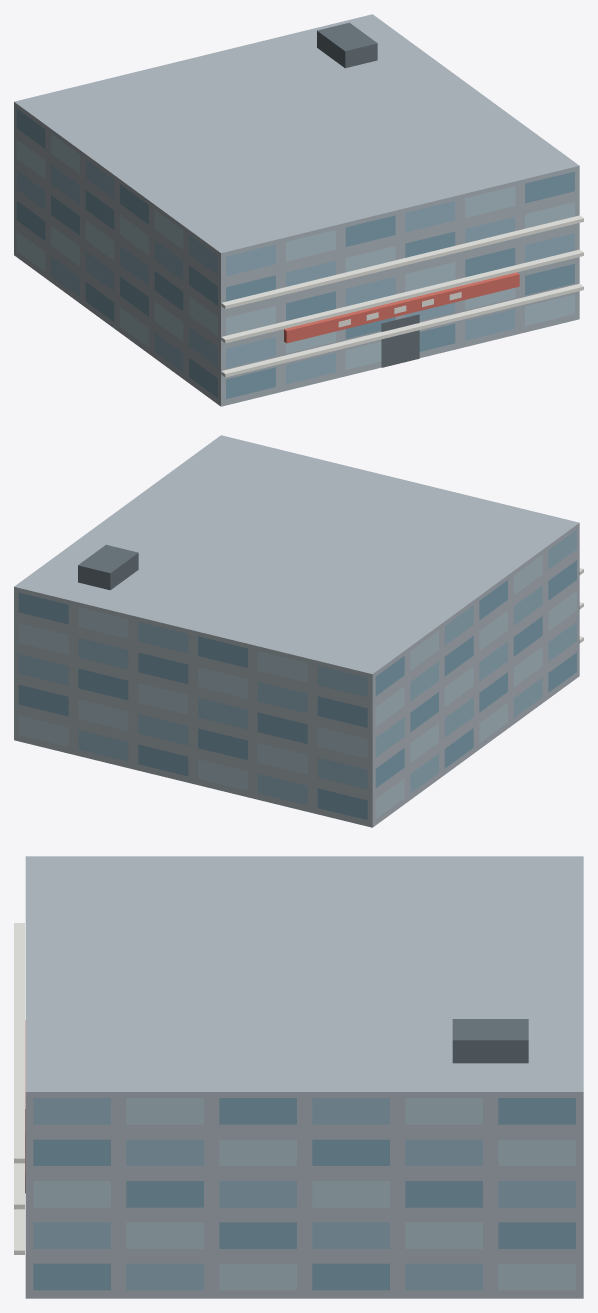
The model's file is korea-building-6.glb.
3 renders of one model, top to bottom at view 1: azimuth 30°, elevation 25°; view 2: azimuth 150°, elevation 25°; view 3: azimuth 270°, elevation 25°, orthographic. The views are drawn at different scales.
Bounding box in the file's own units: 11.02 × 5 × 11.24.
